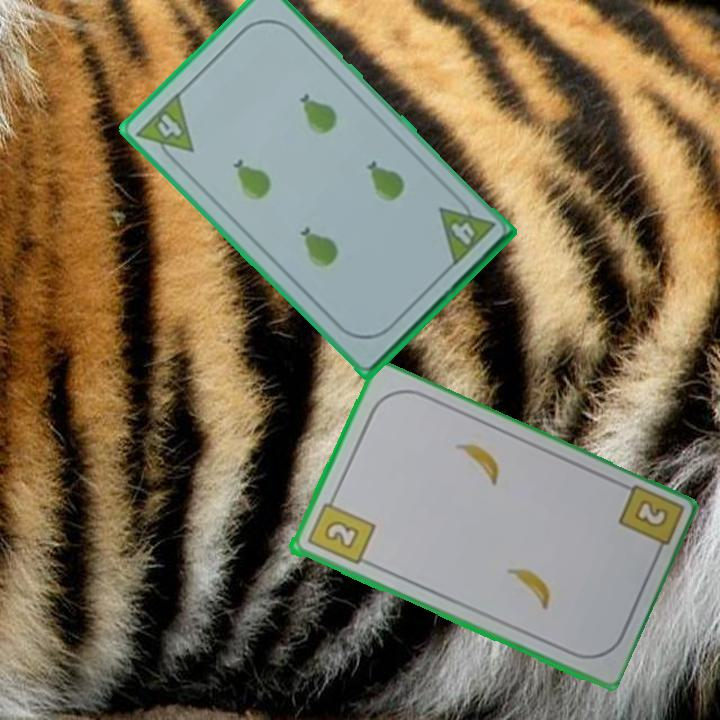2b: (303, 491, 377, 568), (630, 496, 668, 528)
4p: (132, 89, 197, 170), (435, 191, 498, 269)
